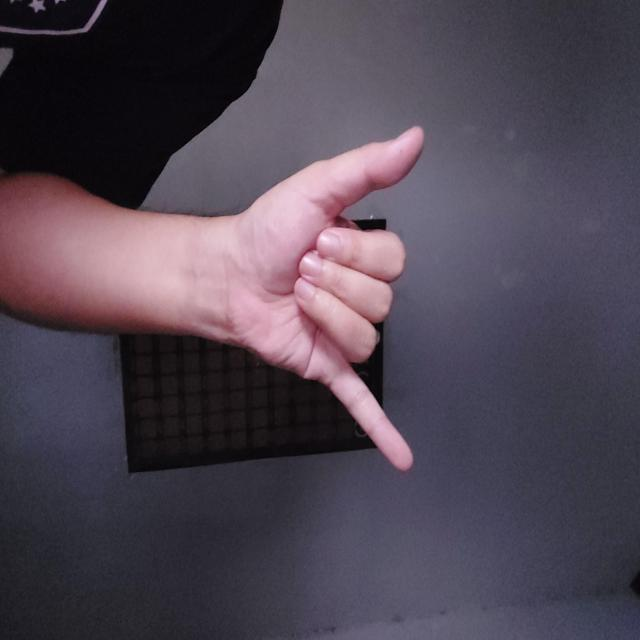Y: (191, 106, 475, 490)
